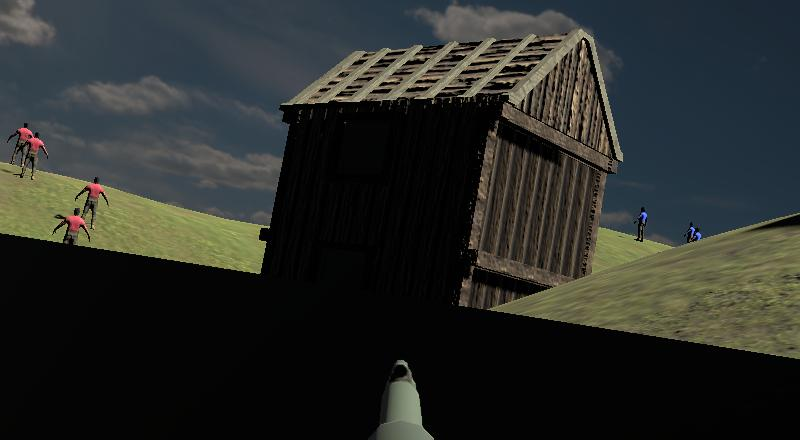House: (228, 30, 637, 440)
Human: (74, 173, 112, 232), (51, 206, 92, 247), (20, 129, 48, 182), (629, 204, 652, 246)
